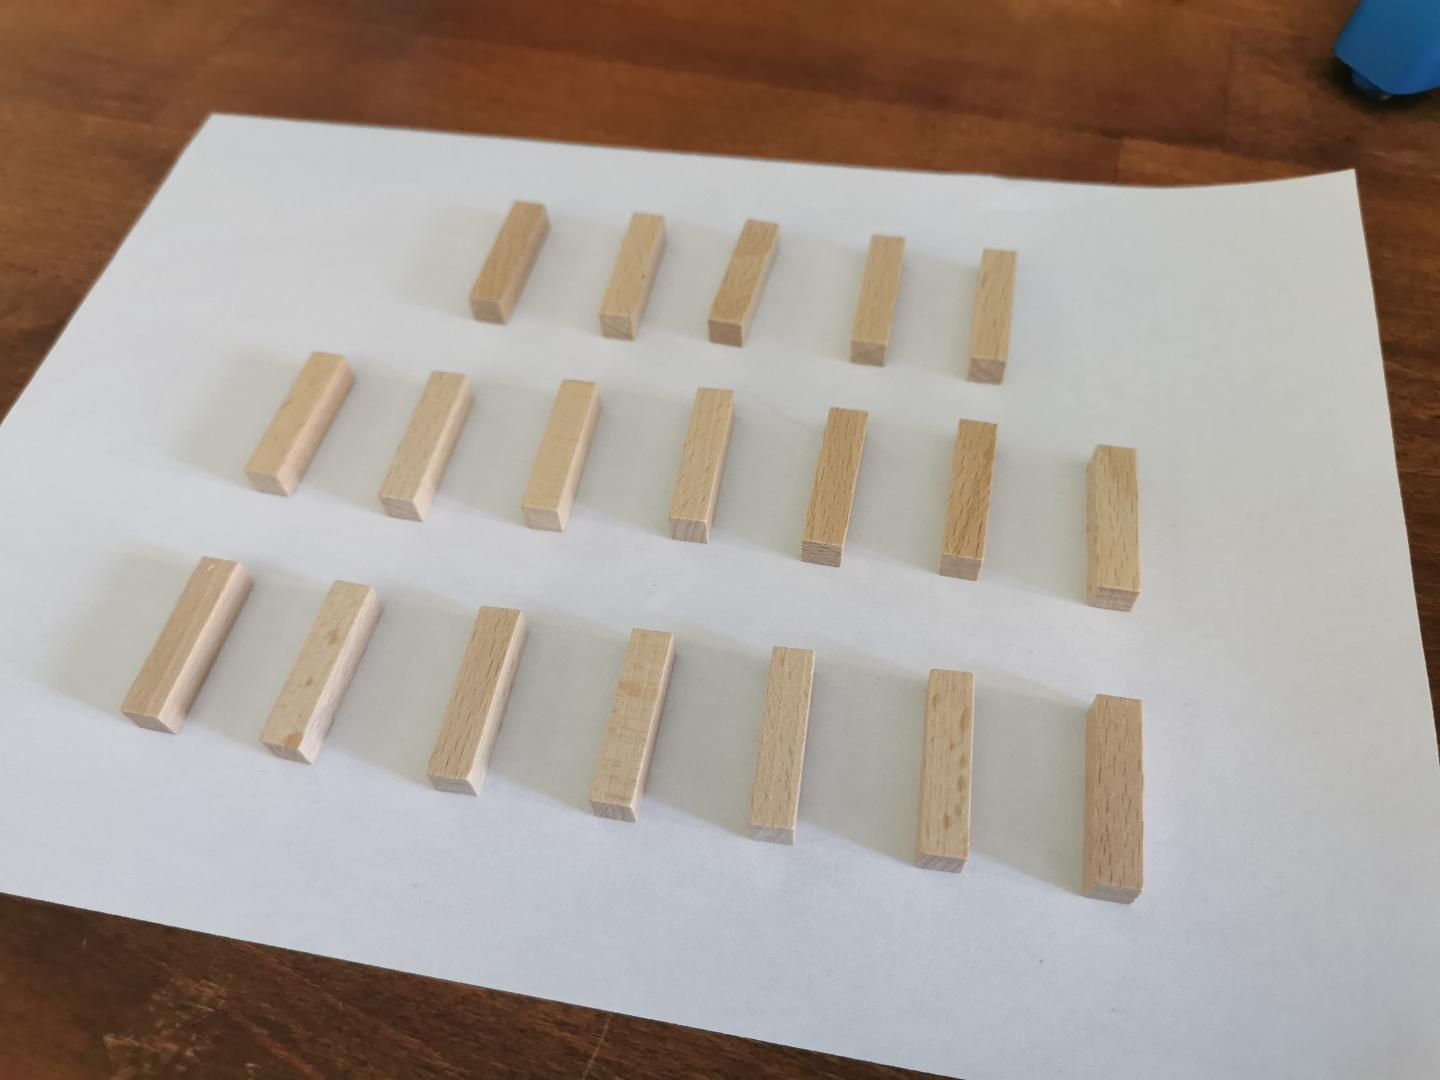jenga: (121, 557, 253, 734), (262, 582, 382, 762), (427, 608, 526, 796), (591, 627, 675, 821), (245, 352, 355, 495), (380, 371, 473, 521), (748, 647, 815, 844), (1083, 694, 1145, 903), (523, 380, 602, 532), (917, 669, 976, 872), (802, 407, 869, 565), (669, 388, 734, 542), (469, 202, 549, 323), (1085, 445, 1142, 610), (939, 419, 996, 580), (709, 219, 779, 346), (599, 213, 667, 340), (849, 234, 906, 365), (967, 251, 1015, 382)
